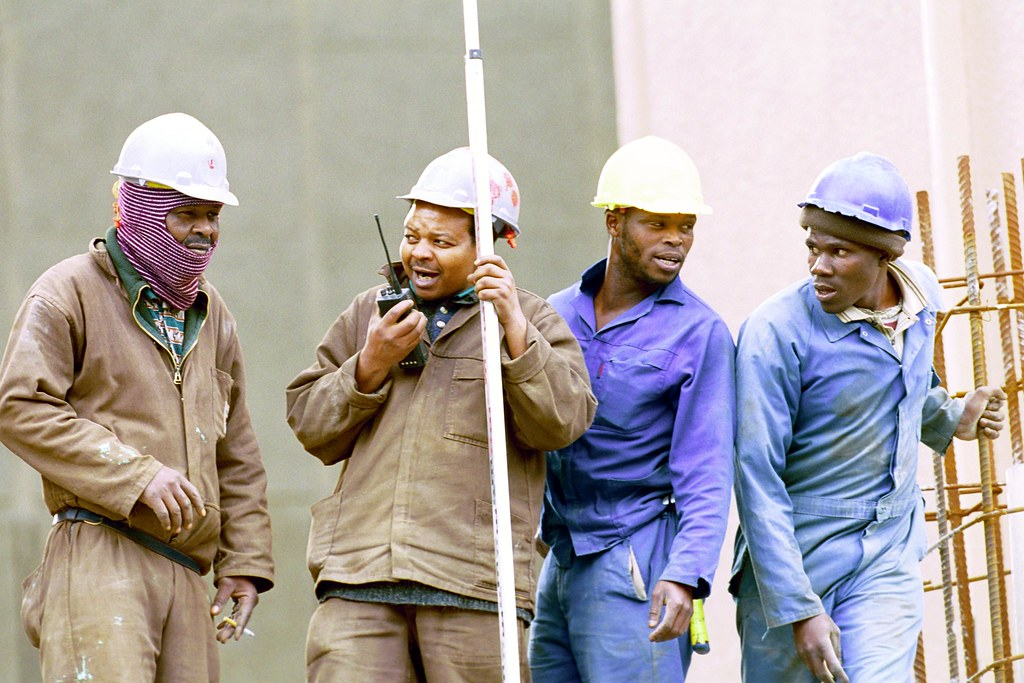cap: (91, 102, 253, 211), (580, 124, 726, 226), (378, 147, 544, 234), (793, 145, 931, 237)
